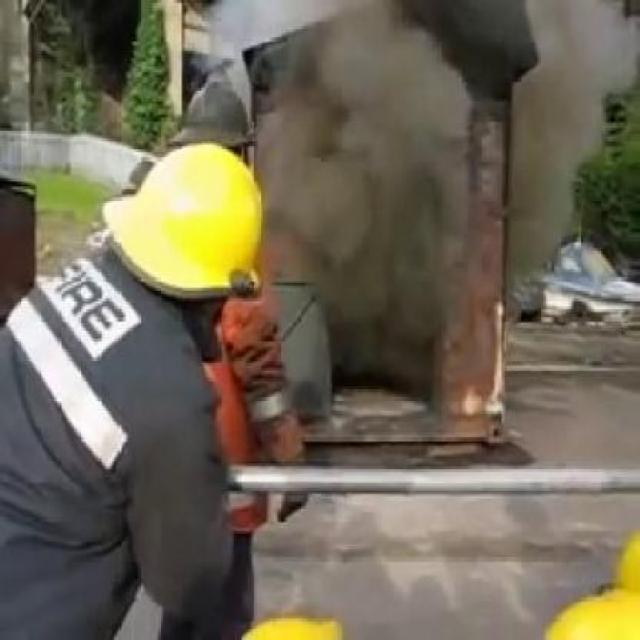smoke: (282, 36, 468, 342)
